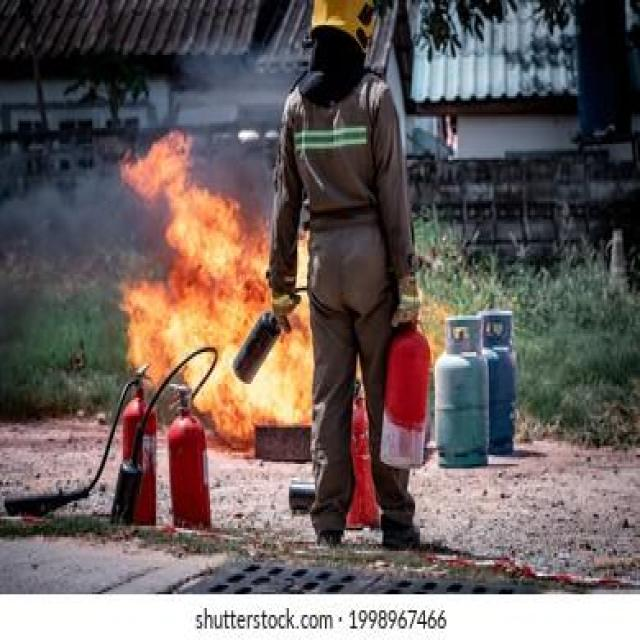fire_extinguisher: (0, 352, 158, 530), (105, 338, 218, 530), (373, 281, 436, 476), (232, 263, 301, 384)
